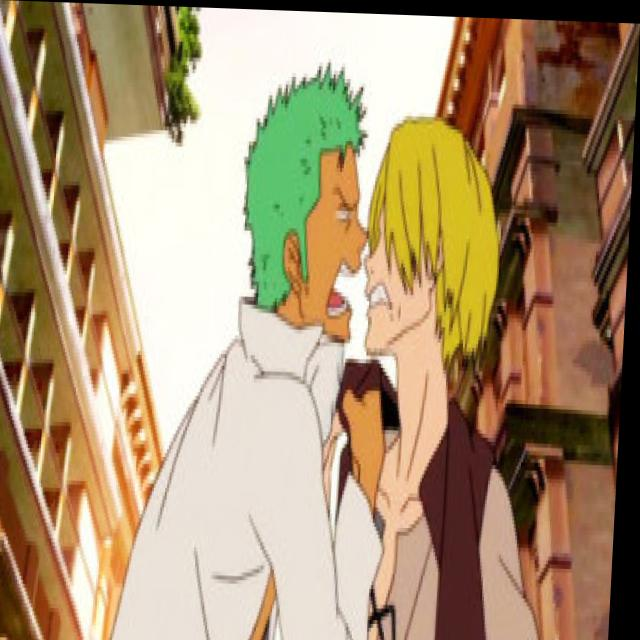Sangdi: (361, 97, 514, 370)
Zoro: (240, 46, 376, 350)
